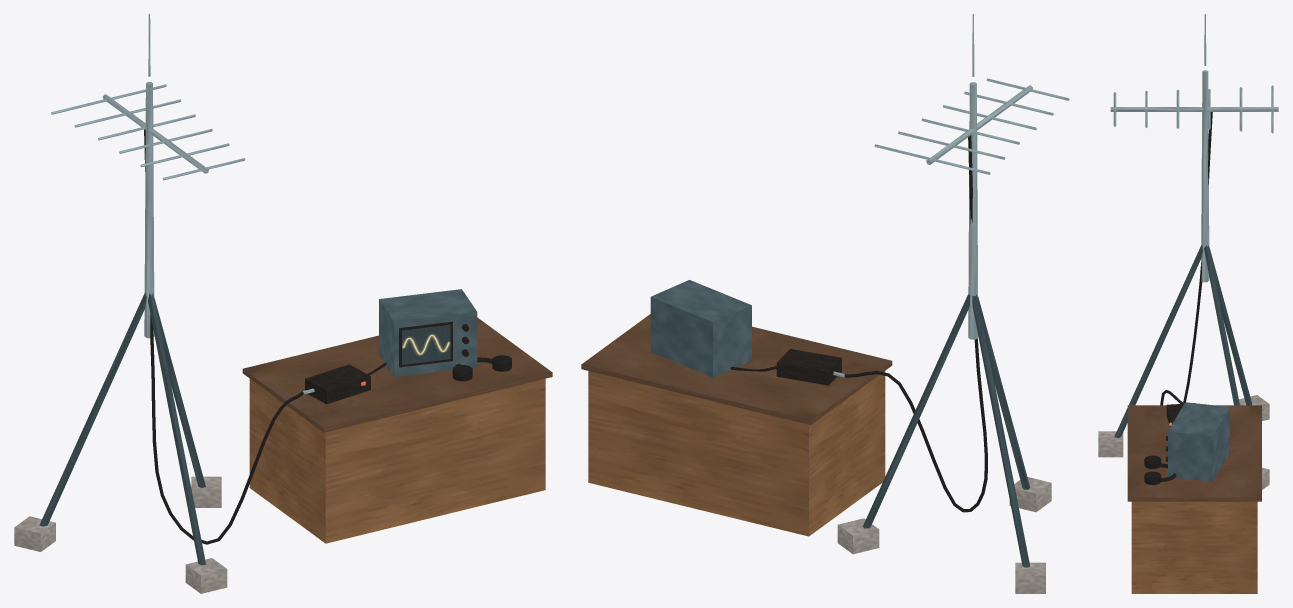
File: prop-3-radio-lab.glb
3 views of the same model, side by side, from view 1: azimuth 30°, elevation 25°; view 2: azimuth 150°, elevation 25°; view 3: azimuth 270°, elevation 25° (orthographic). The views are drawn at different scales.
Visible parts, largest first — view 1: geometry_0; view 2: geometry_0; view 3: geometry_0.
Boxes of the visible parts, x1=… form: geometry_0: x1=14, y1=14, x2=552, y2=593; geometry_0: x1=581, y1=14, x2=1069, y2=593; geometry_0: x1=1098, y1=14, x2=1278, y2=593.
Size of the model in its own units: 2.09 by 2.31 by 0.86.
Materials: 1 (1 with a texture image).
